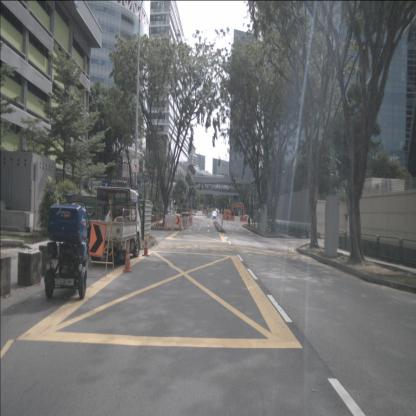human-pedestrian-adult: (247, 212, 251, 228)
movable_object-barrier: (165, 214, 179, 230), (180, 215, 193, 231)
movable_object-trafficcone: (123, 240, 133, 273), (142, 233, 150, 257), (170, 222, 174, 231), (165, 219, 168, 229)
vehicle-car: (212, 210, 218, 220)
vehicle-motorcycle: (44, 190, 95, 300)
vehicle-truck: (84, 186, 141, 265)
